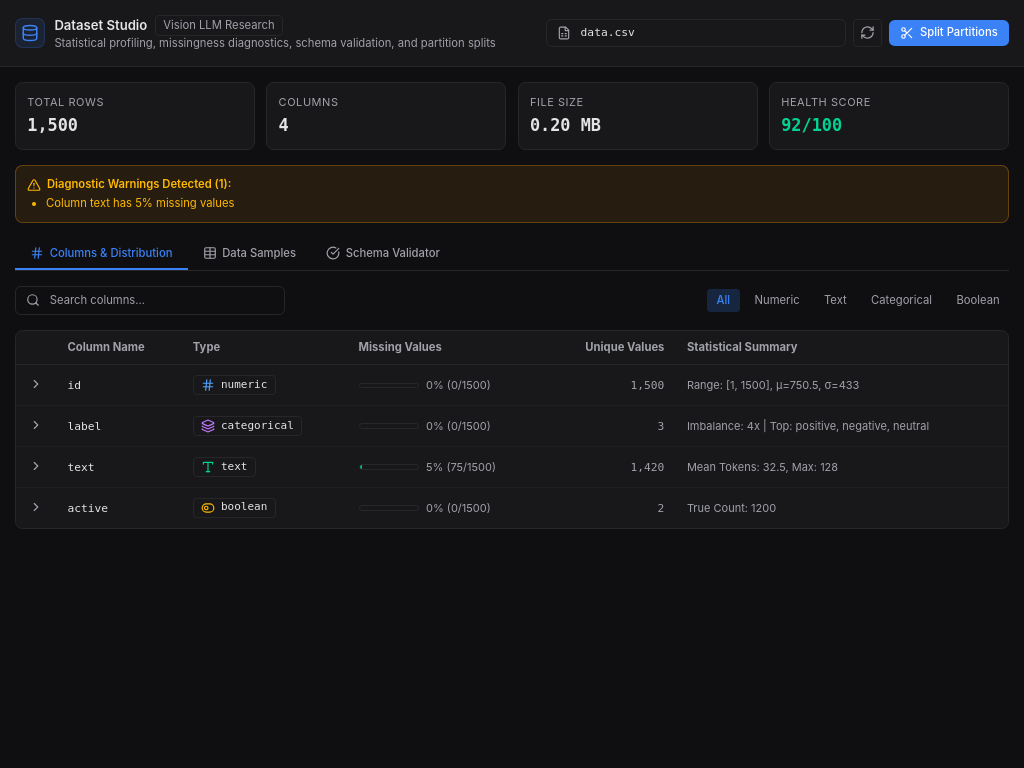
Test: DatasetStudio Component › switches to Data Samples tab and renders preview rows
The image size is (1024, 768).
Expected: the text "92/100" is shown, [781,112,842,138]
Click the button "Data Samples" at x=249, y=254, box [188,238,311,270]
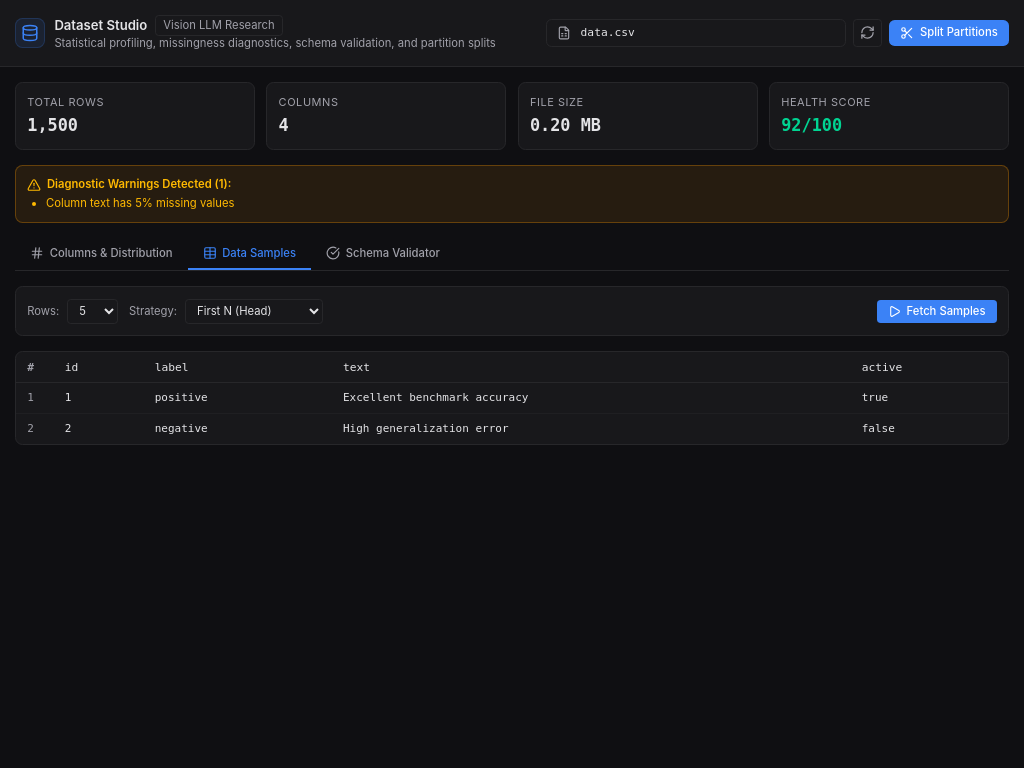
Expected: the text "Excellent benchmark accuracy" is shown, [332,383,850,414]
Expected: the text "High generalization error" is shown, [332,414,850,444]
